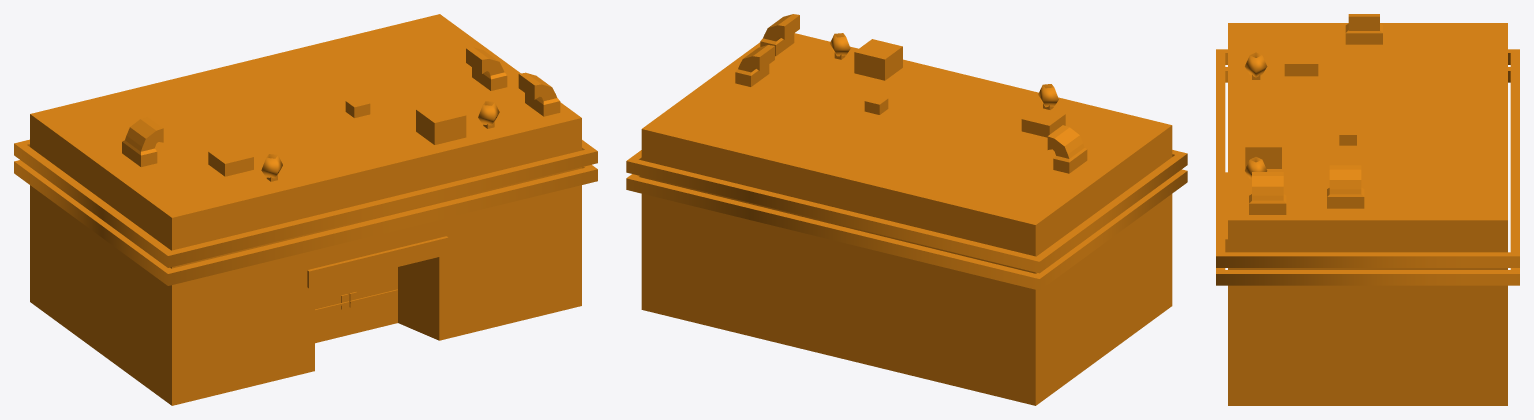
The model's file is Community Center.FBX.
3 renders of one model, left to right at view 1: azimuth 30°, elevation 25°; view 2: azimuth 150°, elevation 25°; view 3: azimuth 270°, elevation 25°, orthographic. The views are drawn at different scales.
Visible parts, largest first — view 1: community center; view 2: community center; view 3: community center.
Boxes of the visible parts, x1,y1,x2,y2 form: community center: (14,14,597,405); community center: (626,14,1187,405); community center: (1216,14,1519,405).
Size of the model in its own units: 262 by 128 by 163.
